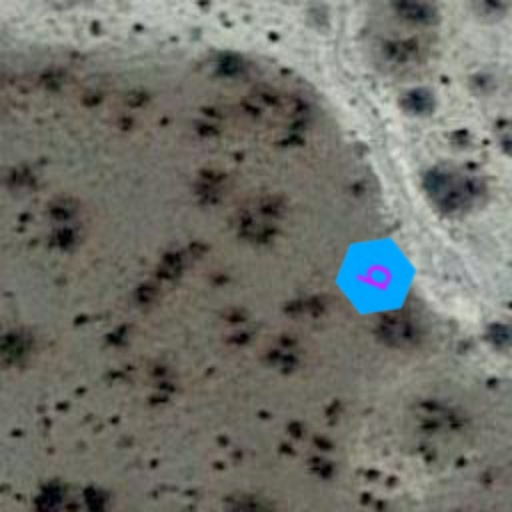hexagon: (322, 222, 430, 330)
